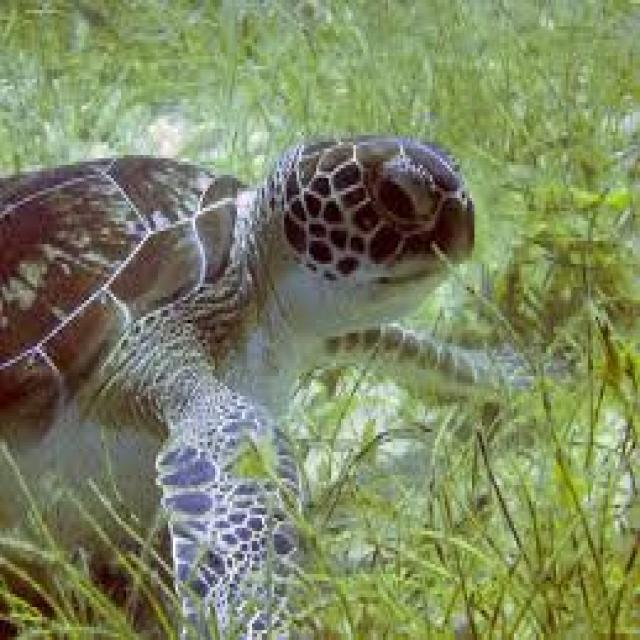turtle: (91, 112, 502, 479)
